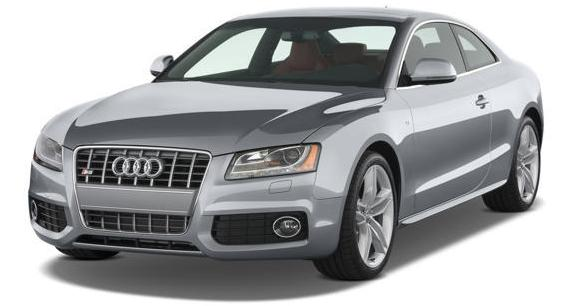front_view: (27, 120, 329, 255)
headlight: (222, 143, 327, 182)
side_glass: (394, 22, 500, 85)
